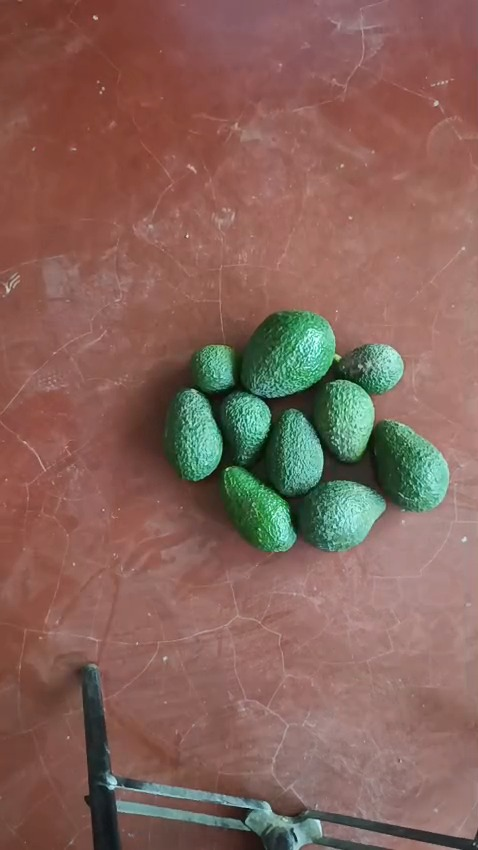Primera: (239, 309, 336, 399)
Segunda: (369, 419, 447, 510), (219, 465, 296, 551), (297, 478, 386, 552), (163, 388, 222, 481), (263, 407, 323, 495)
Tercera: (313, 378, 375, 463), (217, 390, 273, 468), (335, 342, 405, 396), (190, 343, 238, 395)
